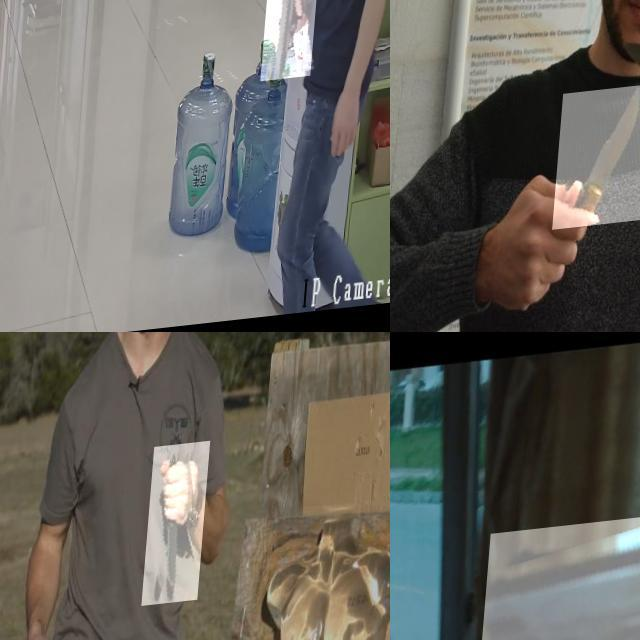-: (561, 90, 640, 235), (150, 450, 216, 614)
gun-knife-thesis - v11 Yolov5 augmented: (473, 511, 640, 640), (267, 0, 323, 91)
